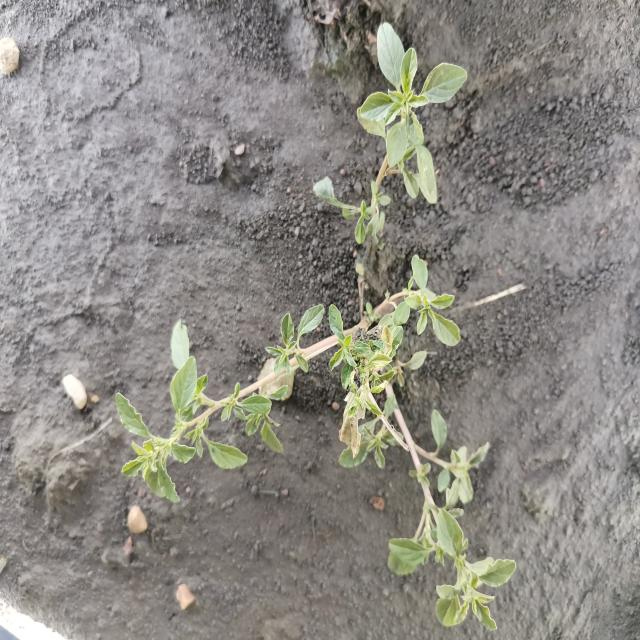Waterhemp: (114, 20, 520, 635)
